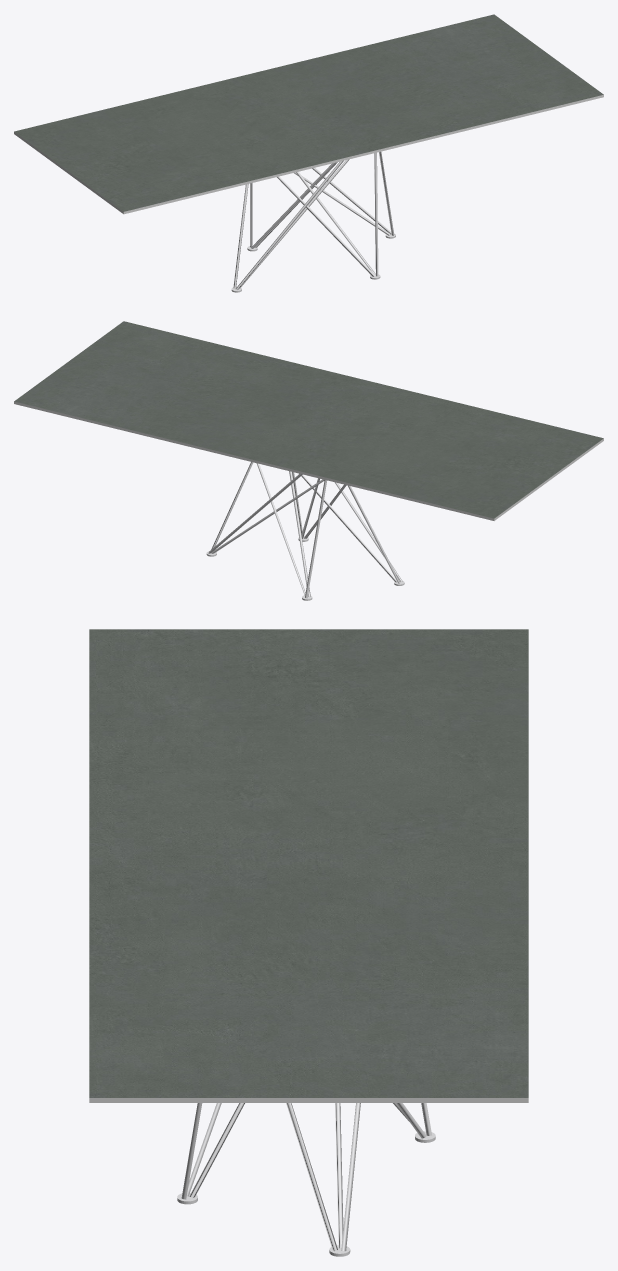
The model's file is Stella17.glb.
3 views of the same model, one above another, from view 1: azimuth 30°, elevation 25°; view 2: azimuth 150°, elevation 25°; view 3: azimuth 270°, elevation 25° (orthographic). The views are drawn at different scales.
Parts seen in each view (by area): view 1: Cube.001, Plane.018; view 2: Cube.001, Plane.018; view 3: Cube.001, Plane.018.
Part boxes in pixels (x1,y1,x2,y2): Cube.001: [14, 14, 603, 214]; Plane.018: [233, 151, 394, 289]; Cube.001: [14, 321, 603, 520]; Plane.018: [208, 462, 402, 598]; Cube.001: [89, 629, 528, 1102]; Plane.018: [181, 1103, 431, 1251].
Size of the model in its own units: 2.4 by 0.7201 by 0.95.
Materials: 4 (3 with a texture image).
